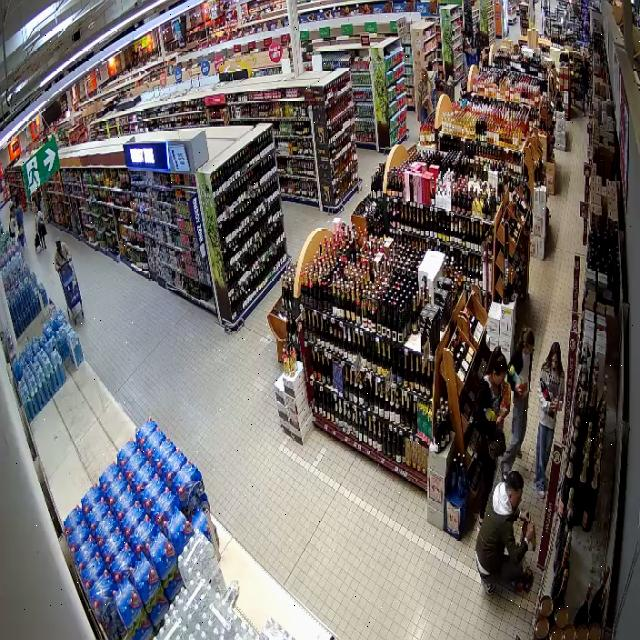article: (509, 365, 524, 386), (521, 514, 531, 540), (540, 378, 551, 401), (484, 408, 497, 421), (530, 536, 535, 549)
hands: (526, 522, 535, 542), (549, 398, 559, 412), (514, 384, 524, 397), (521, 512, 531, 522), (497, 416, 503, 425)
person: (476, 471, 535, 592), (470, 347, 510, 523), (502, 328, 534, 474), (535, 342, 564, 498)
